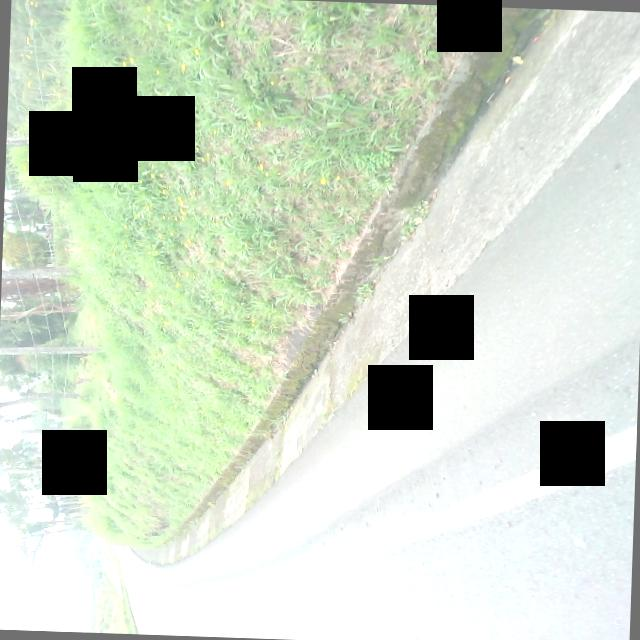DITCH: (45, 0, 640, 640), (53, 0, 640, 640), (112, 0, 640, 607)
